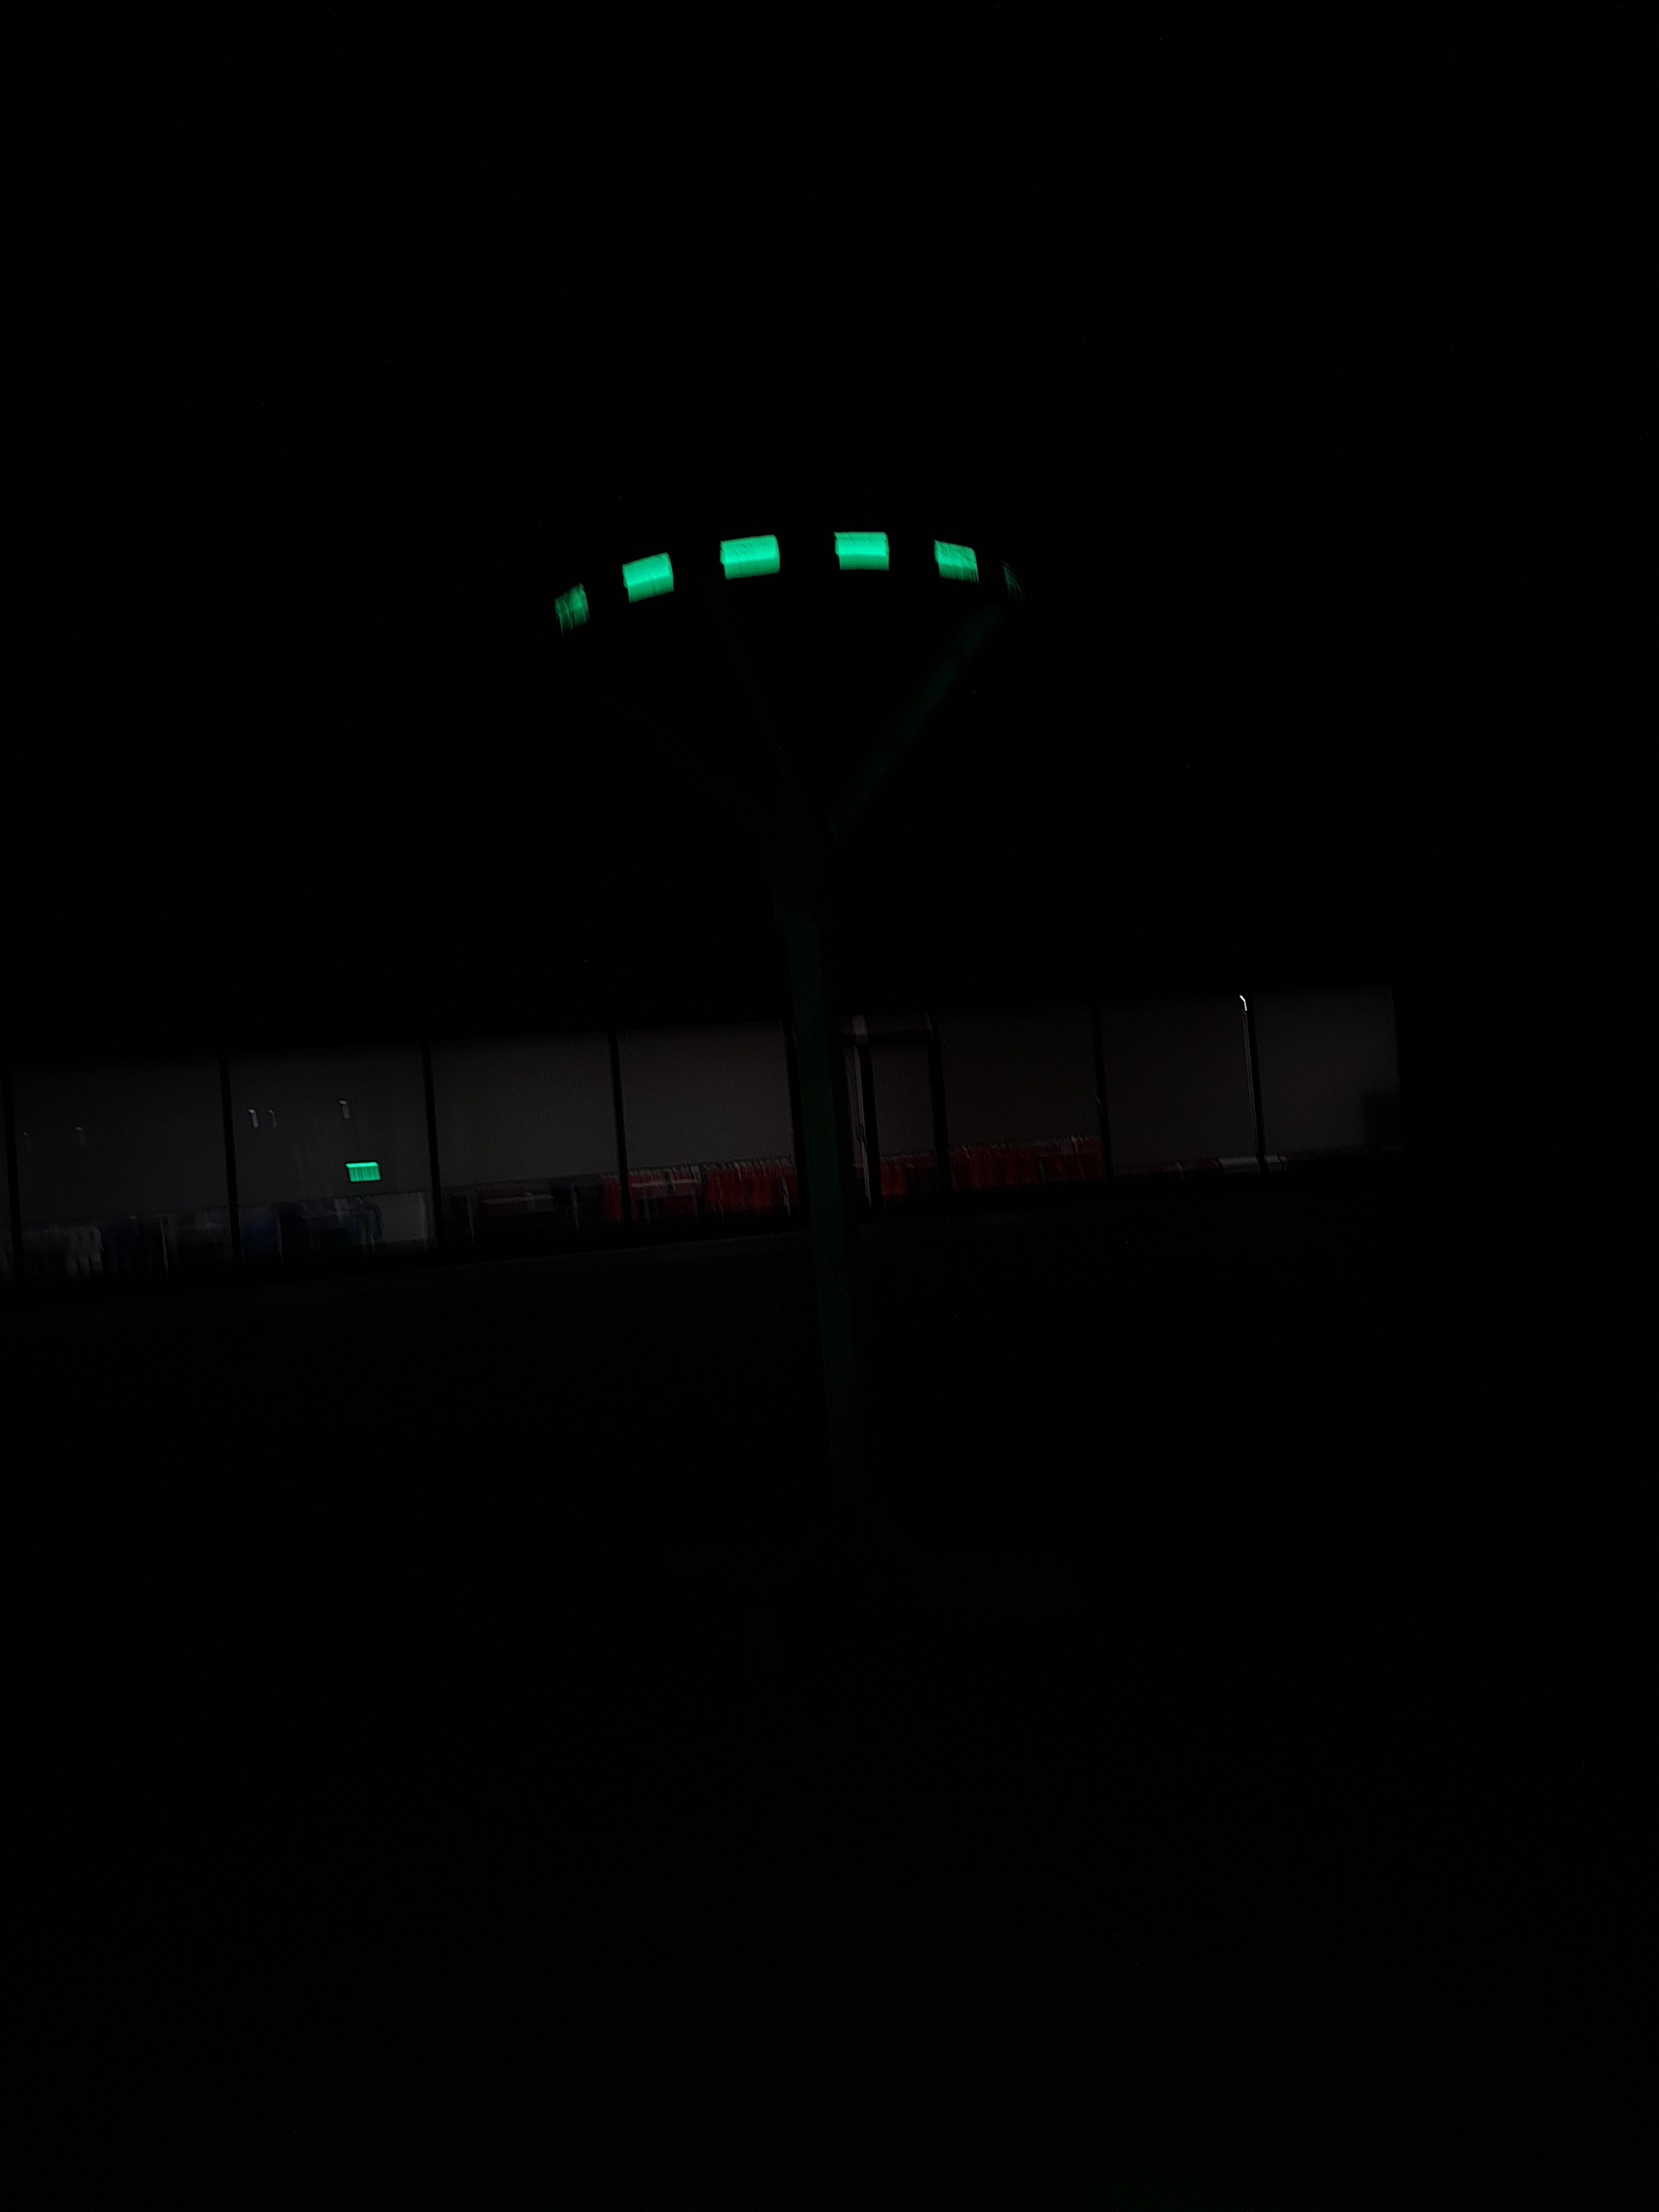hoop: (540, 535, 1007, 632)
